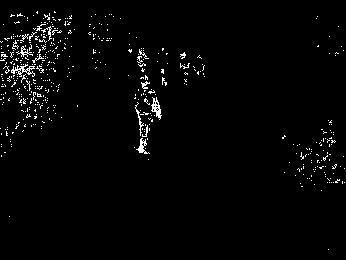person: (132, 75, 164, 157)
